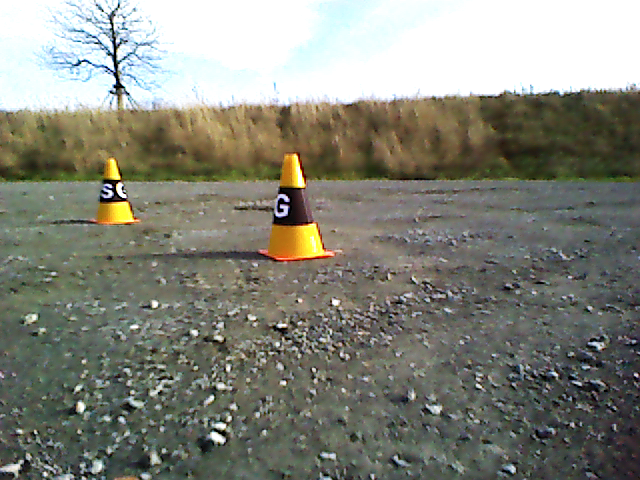yellowcone: (268, 153, 324, 253), (95, 157, 133, 220)
